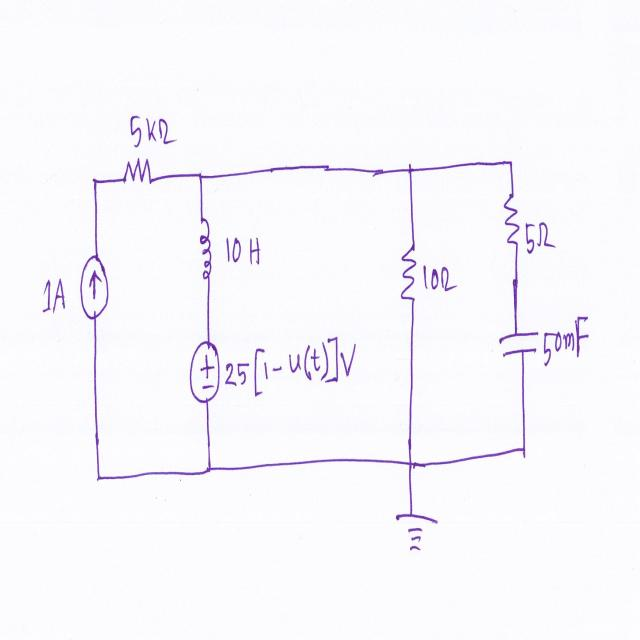capacitor: (497, 322, 542, 366)
current_source: (77, 251, 111, 326)
ground: (394, 500, 438, 560)
inductor: (194, 212, 216, 289)
resistor: (118, 152, 156, 200), (398, 243, 422, 311), (500, 182, 522, 254)
voltage_source: (187, 335, 222, 413)
